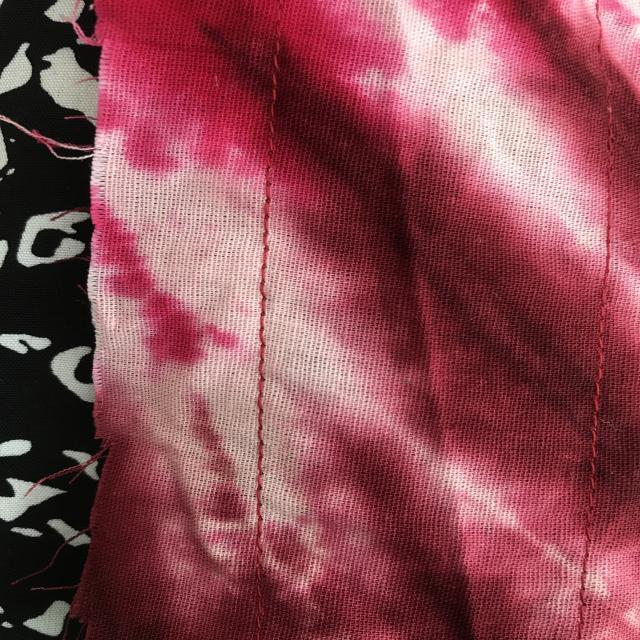good: (248, 380, 275, 474), (254, 211, 276, 316), (590, 335, 612, 415)
